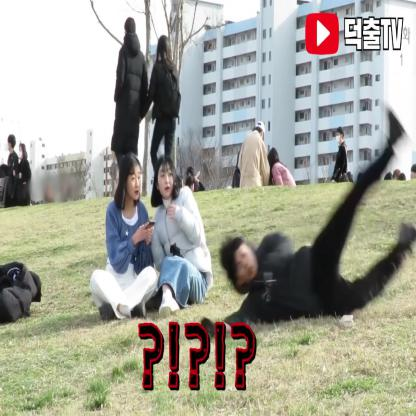Fall_Down: (203, 106, 414, 342)
